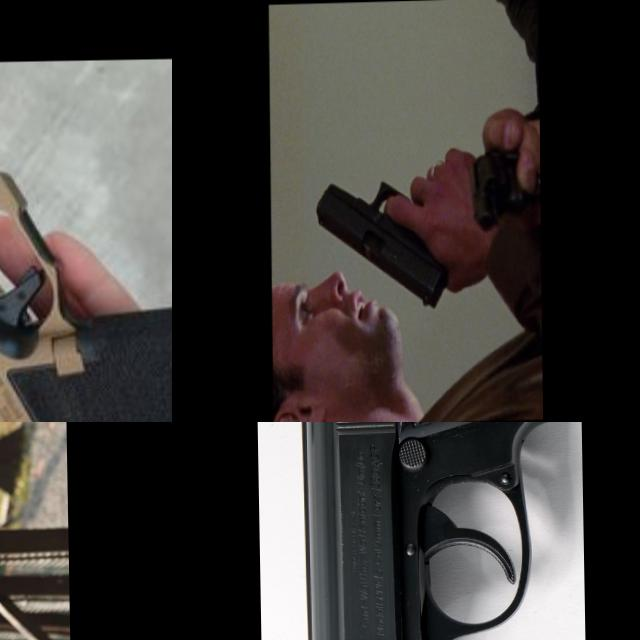handgun: (280, 422, 586, 640), (0, 67, 172, 422), (315, 172, 452, 311), (470, 136, 541, 232), (0, 581, 50, 640)
